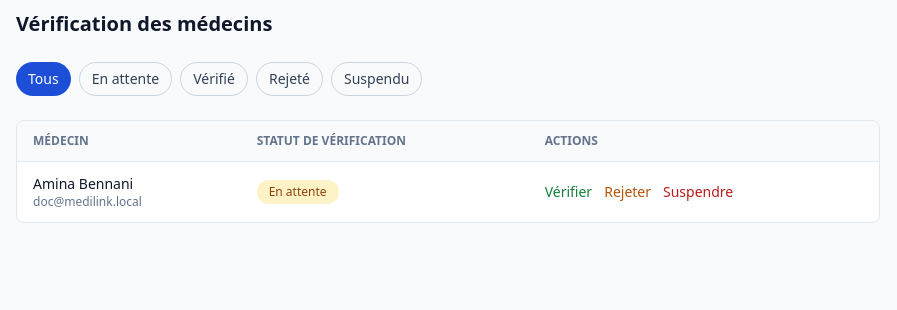
AdminDoctorsPage › affiche une erreur 409 si l'action échoue côté API
Check: the text "Amina Bennani" is shown, box [33,174,133,193]
Click the button "Rejeter" at {"x": 628, "y": 192}, box [604,182,651,202]
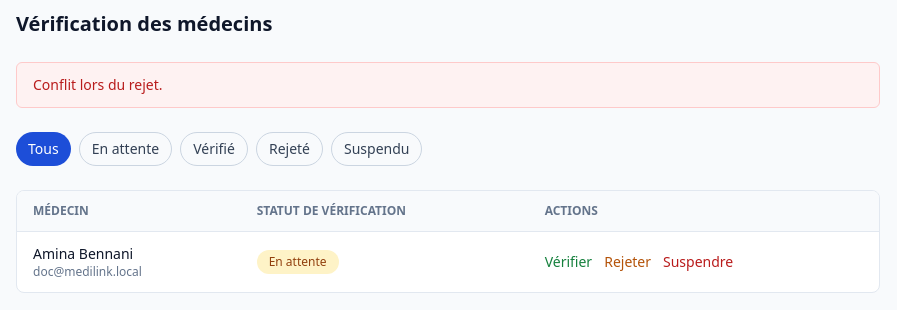
Check: the message reads "Conflit lors du rejet.", box [33,75,162,94]
